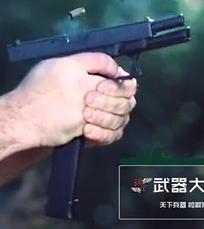gun: (1, 1, 204, 229)
